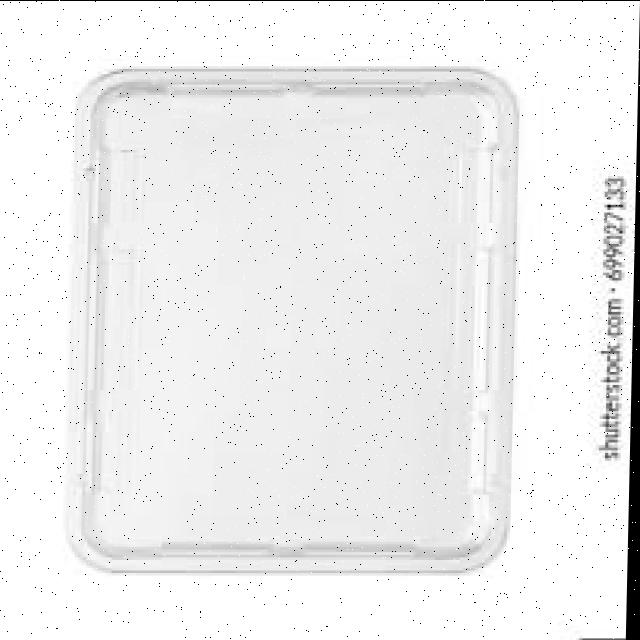disposable: (59, 35, 548, 582)
